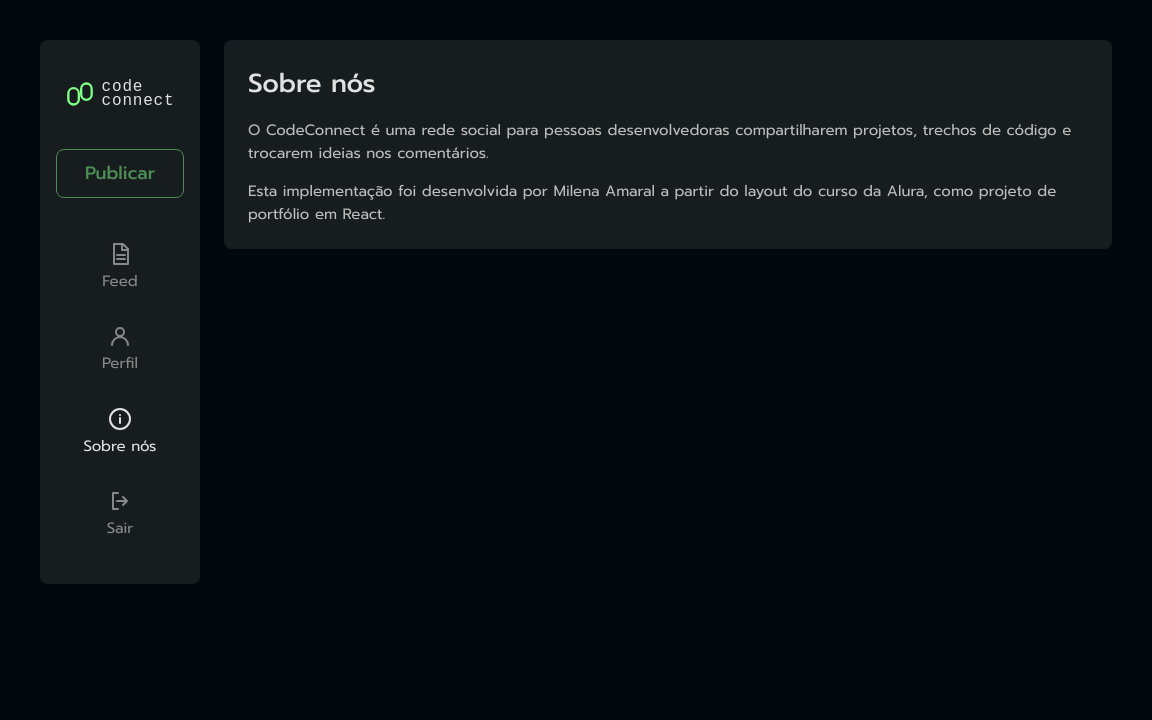
Scenario: AppLayout › sai da conta pelo menu
Click the button "Sair" at {"x": 120, "y": 515}, box [99,485,141,544]
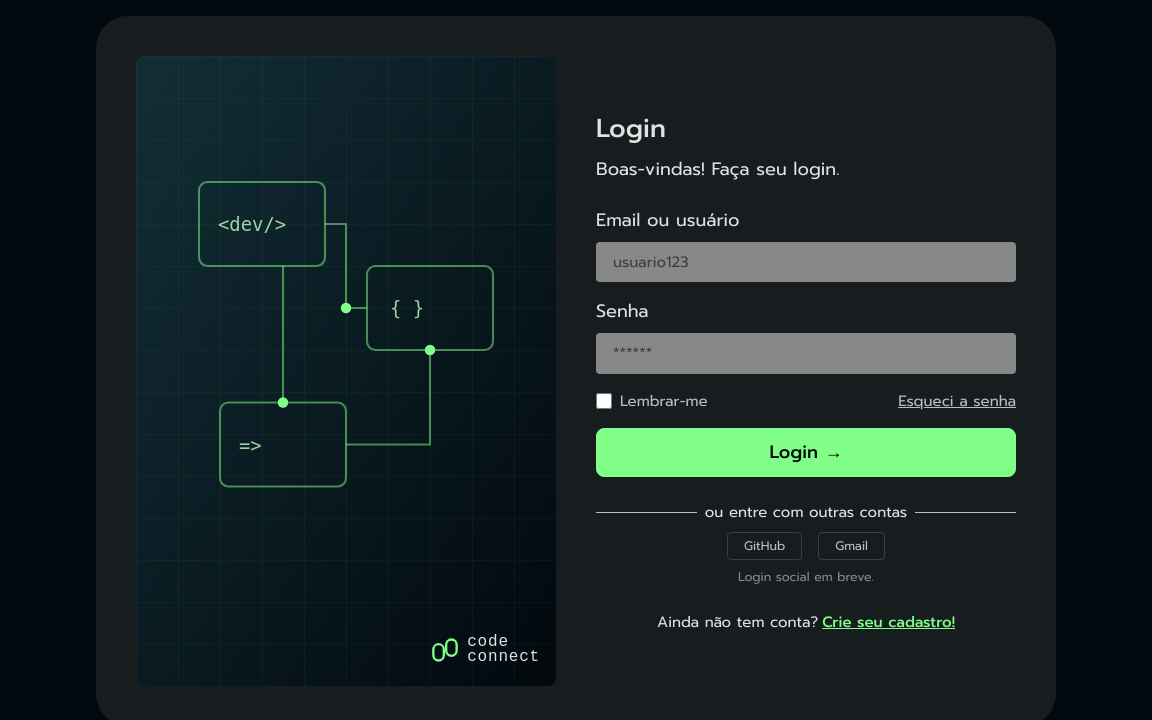
Now the heading "Login" is shown, box [596,108,666,148]
